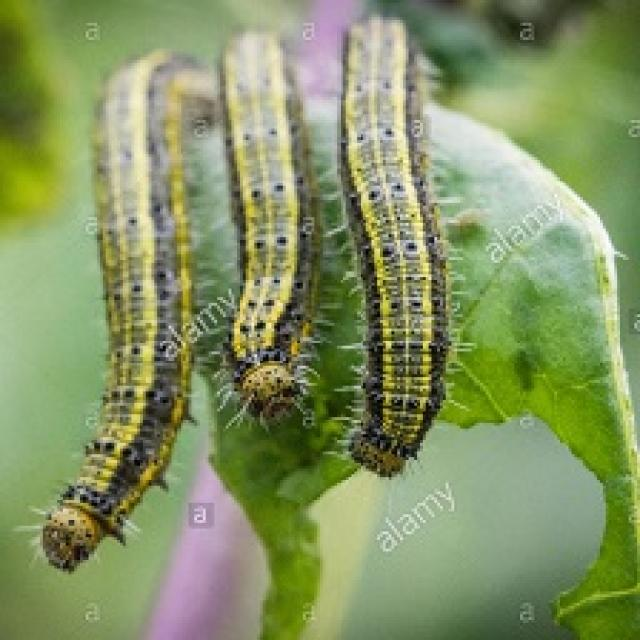Cabbage-worm: (44, 40, 197, 581), (320, 1, 466, 491), (209, 16, 335, 460)
